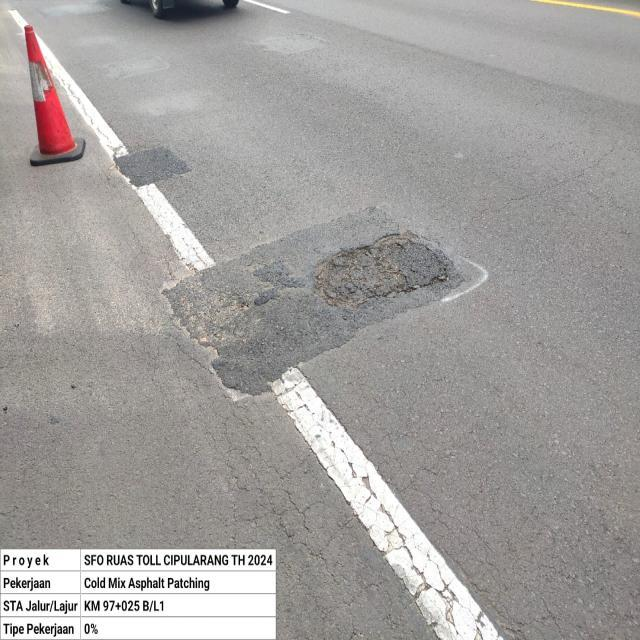Buraco: (308, 228, 456, 314)
